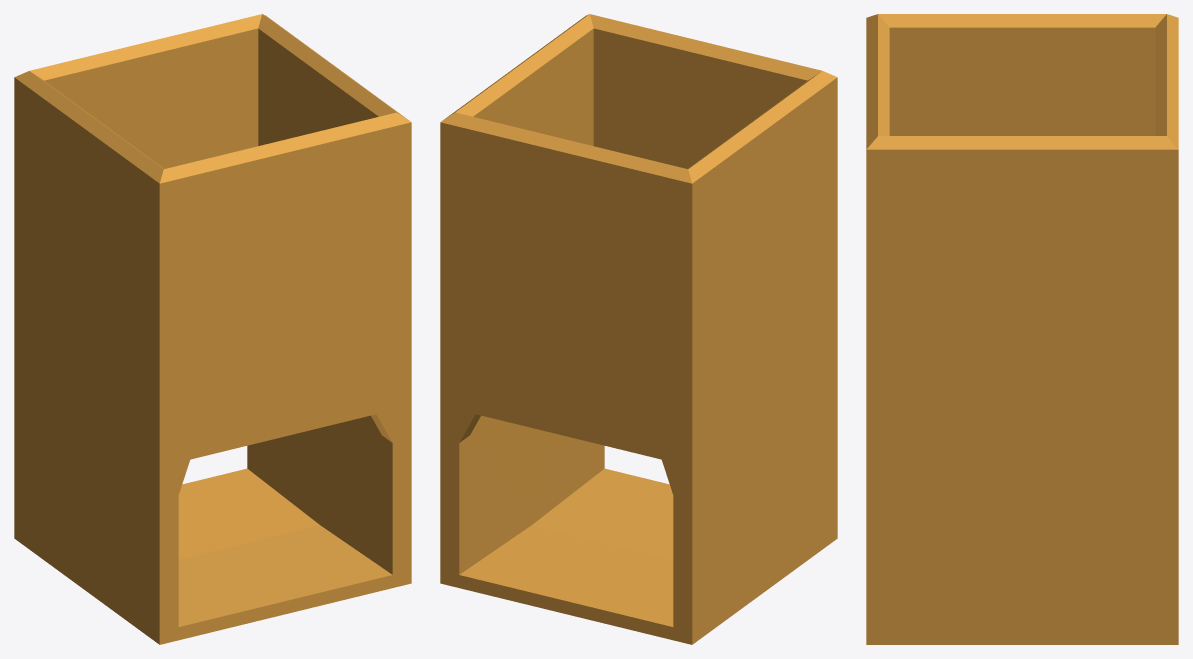
File: steel-reinforcement.fbx
3 views of the same model, side by side, from view 1: azimuth 30°, elevation 25°; view 2: azimuth 150°, elevation 25°; view 3: azimuth 270°, elevation 25° (orthographic). The views are drawn at different scales.
Visible parts, largest first — view 1: steel-reinforcement; view 2: steel-reinforcement; view 3: steel-reinforcement.
Part boxes in pixels (x1,y1,x2,y2): steel-reinforcement: [14, 14, 411, 644]; steel-reinforcement: [440, 14, 837, 644]; steel-reinforcement: [866, 14, 1178, 644].
Size of the model in its own units: 0.4 by 0.7183 by 0.4.
